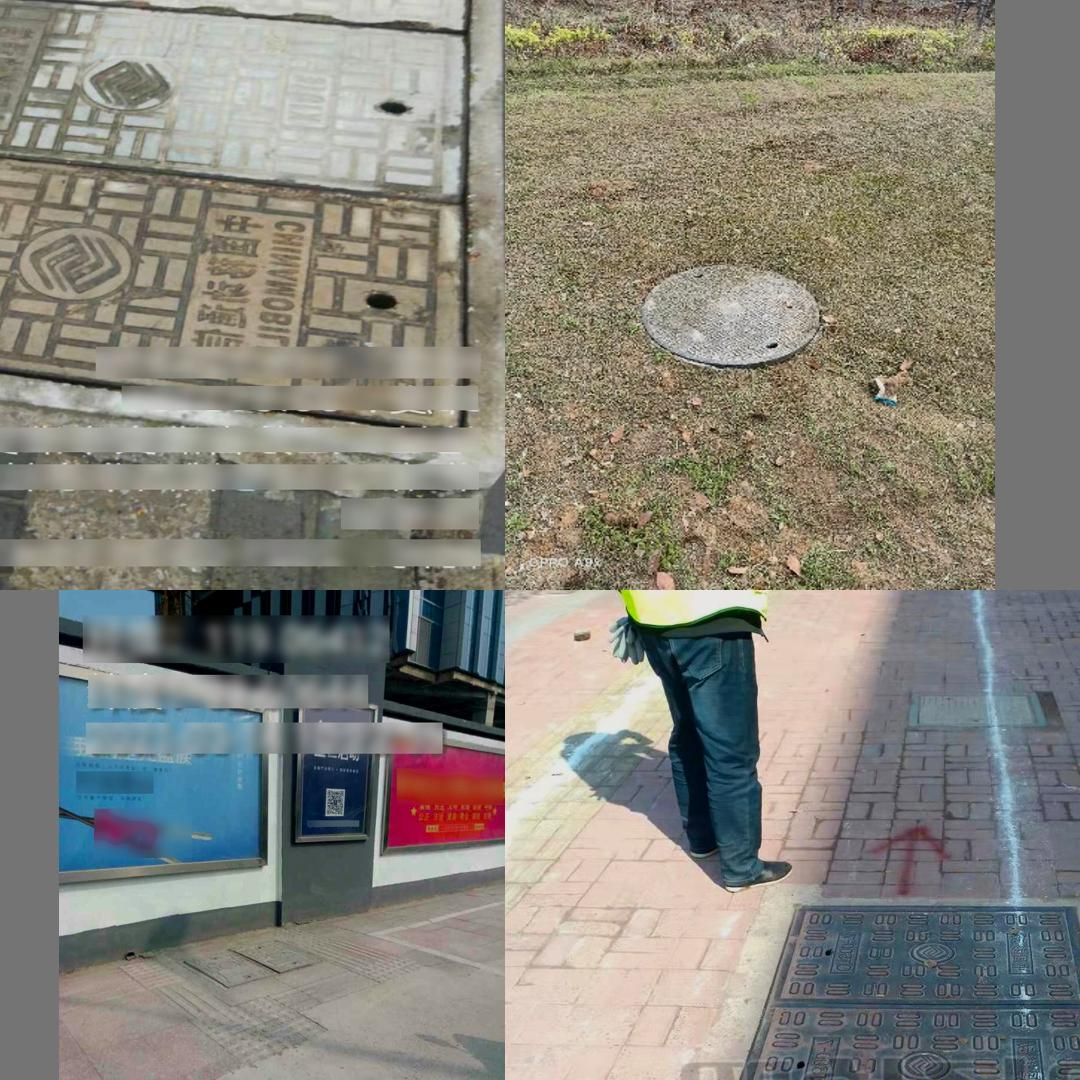good: (0, 0, 501, 487), (710, 898, 1080, 1080), (640, 262, 817, 364), (177, 938, 323, 987), (907, 687, 1048, 728)
